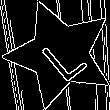L_NW: (31, 25, 88, 83)
